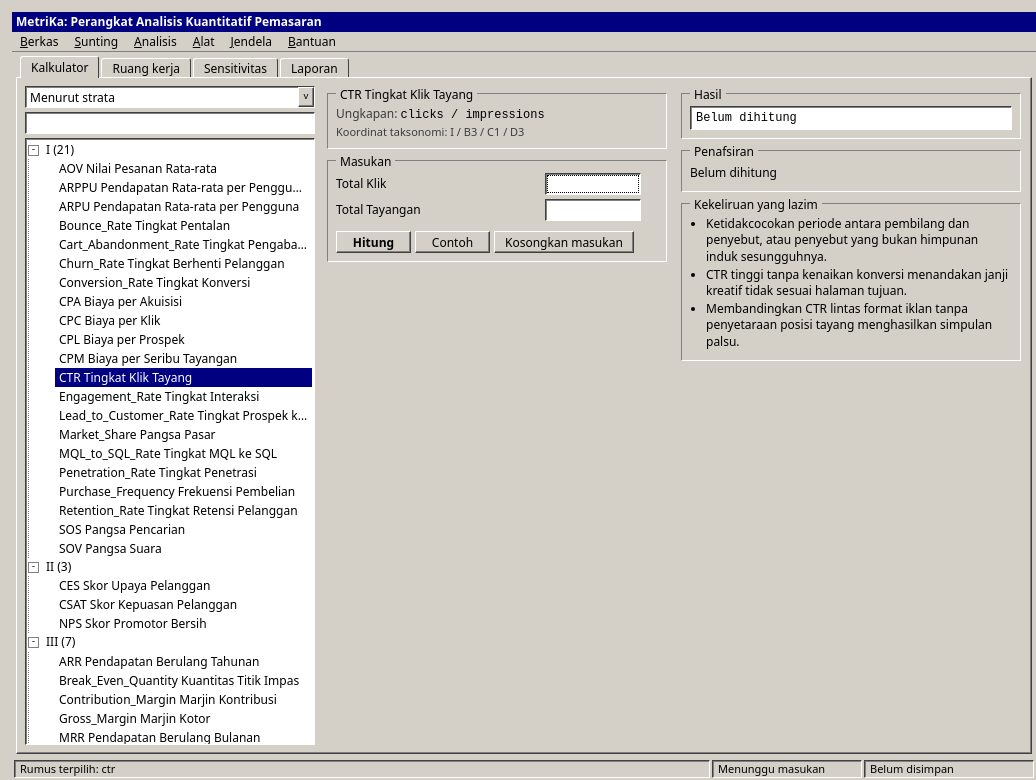
Test: the workbench screen › shows the entered values, the derived values and the counter
Click the tab "Ruang kerja": [146, 68] box [102,58,191,78]
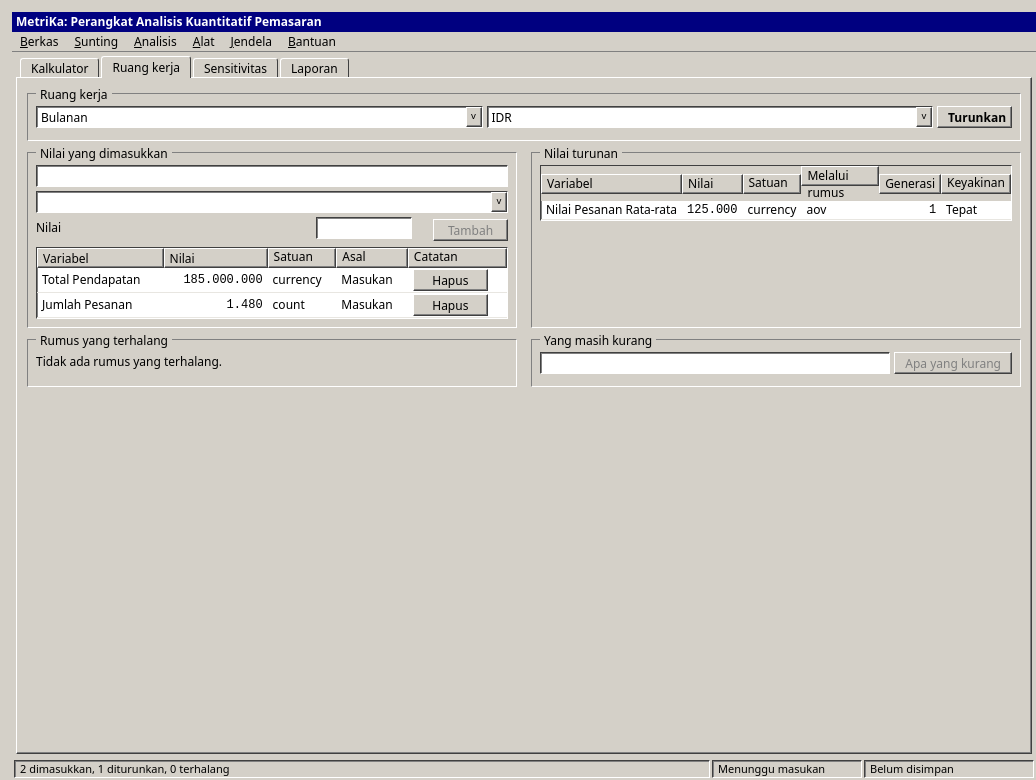
Expected: the text "Nilai Pesanan Rata-rata" is shown, [541,201,682,220]
Now the text "Total Pendapatan" is shown, box [37,268,164,292]
Now the message named "Pesan" reads "2 dimasukkan, 1 diturunkan, 0 terhalang", box [20,761,230,776]
